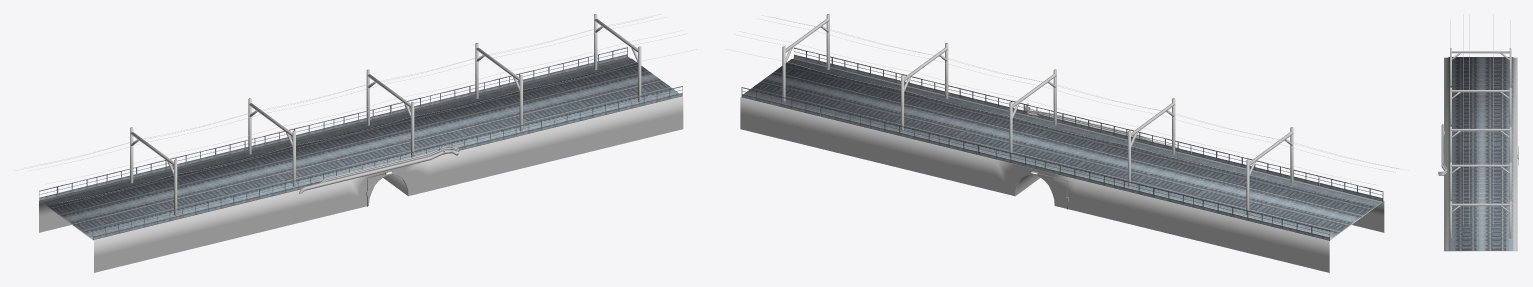
The model's file is BLDG TRAIN  Overpass Tunnl A.fbx.
The picture shows the model from 3 angles, left to right: view 1: azimuth 30°, elevation 25°; view 2: azimuth 150°, elevation 25°; view 3: azimuth 270°, elevation 25°; orthographic projection. The views are drawn at different scales.
Visible parts, largest first — view 1: TRAIN OVERPASS Tunnel A; view 2: TRAIN OVERPASS Tunnel A; view 3: TRAIN OVERPASS Tunnel A.
Boxes of the visible parts, left/top/right/bottom form: TRAIN OVERPASS Tunnel A: left=14, top=14, right=696, bottom=272; TRAIN OVERPASS Tunnel A: left=726, top=14, right=1408, bottom=272; TRAIN OVERPASS Tunnel A: left=1438, top=14, right=1518, bottom=251.
Size of the model in its own units: 6477 by 852 by 1048.
